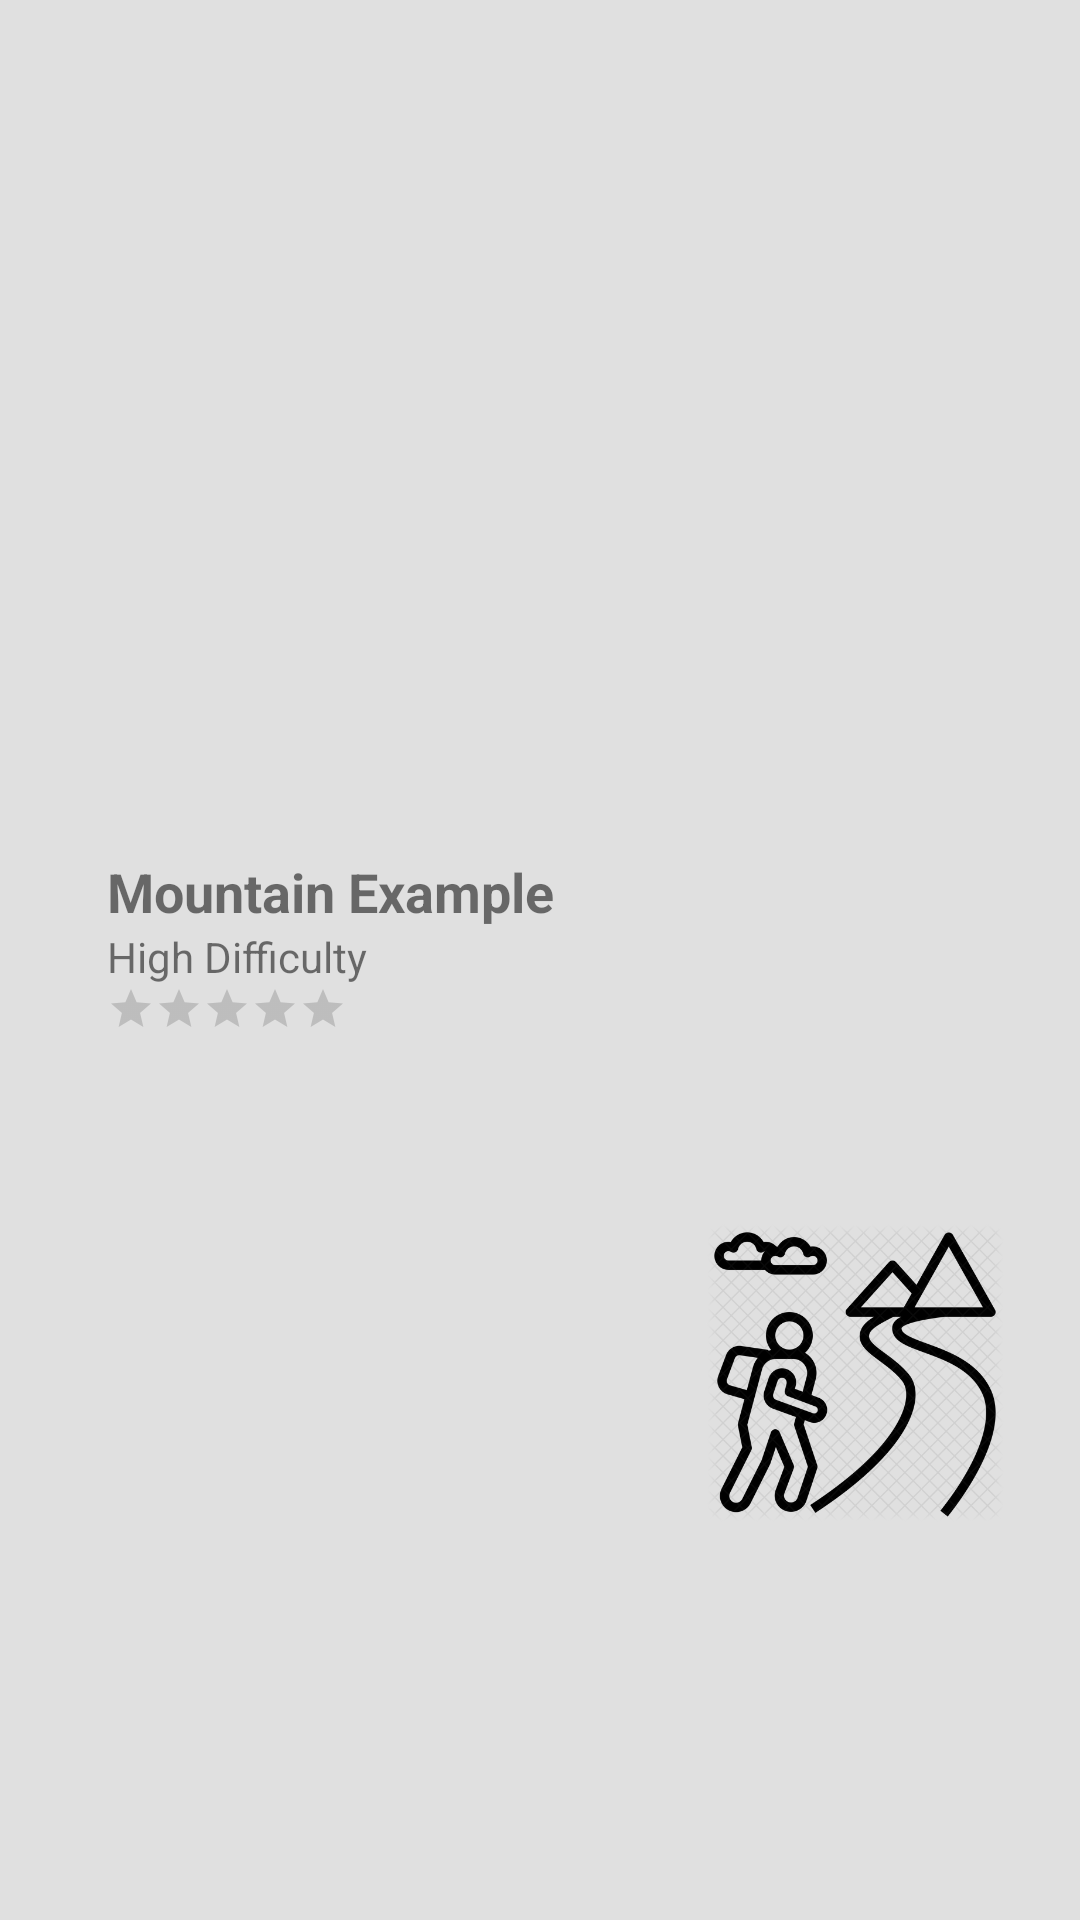

Screen size 1080*1920. Icon name, then its box in pixels as [left=x1, top=y1, right=x2, bottom=y2]:
trail: [left=714, top=1232, right=996, bottom=1517]
